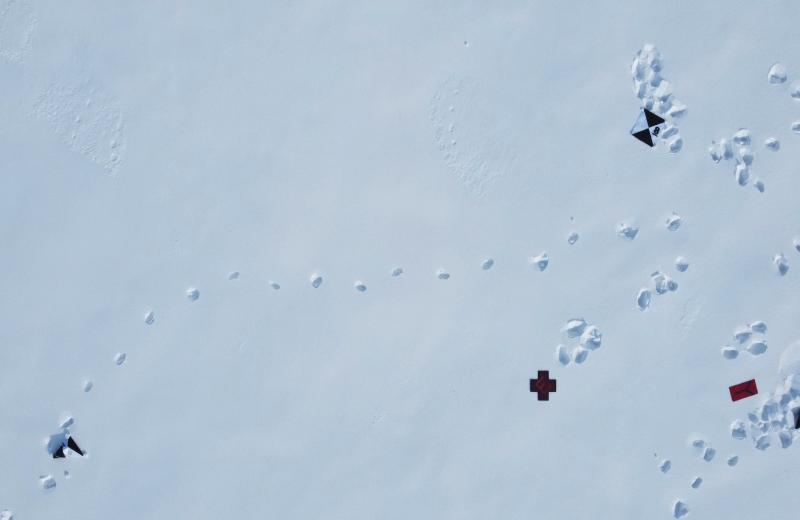Cross: (526, 366, 558, 407)
Rectangle: (728, 377, 760, 404)
